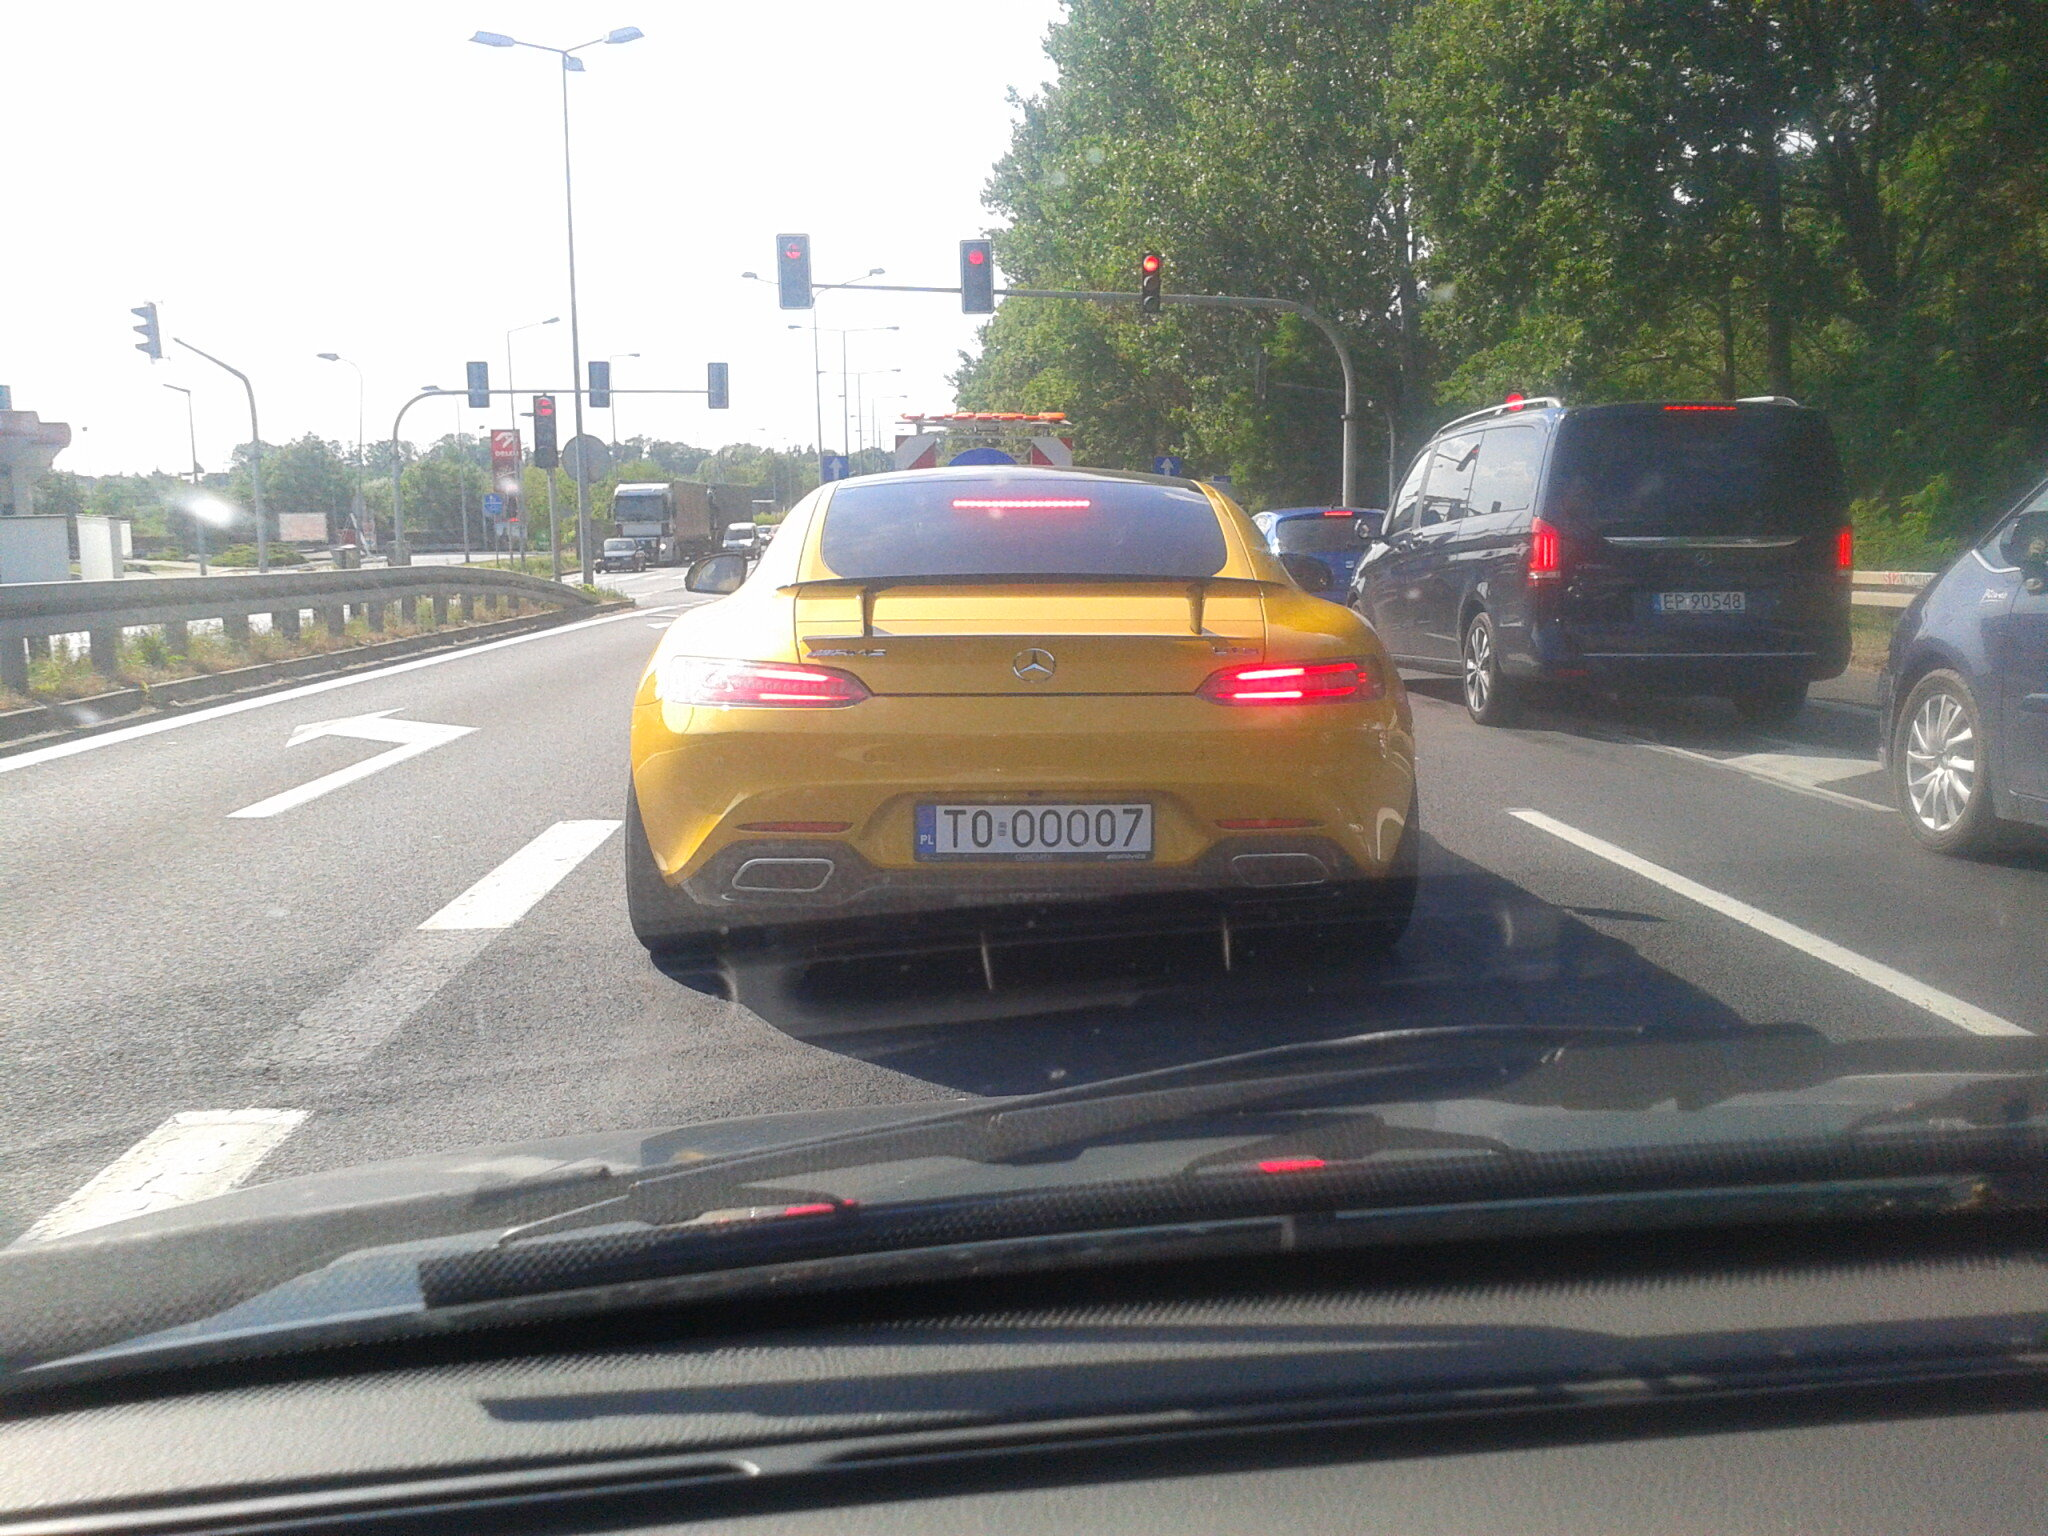number_plate: (914, 801, 1158, 863)
